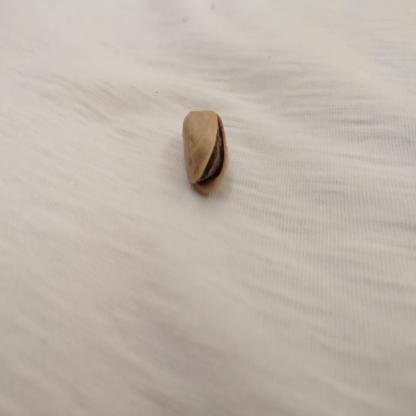pistachio: (178, 103, 236, 206)
